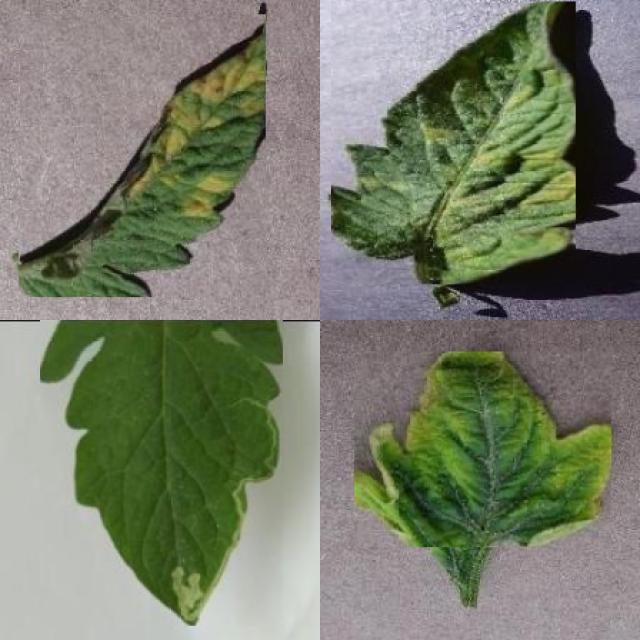Leaf Miner: (40, 320, 283, 626)
Leaf Mold: (18, 15, 266, 298), (330, 2, 576, 285)
Yellow Leaf Curl Virus: (354, 352, 612, 547)
